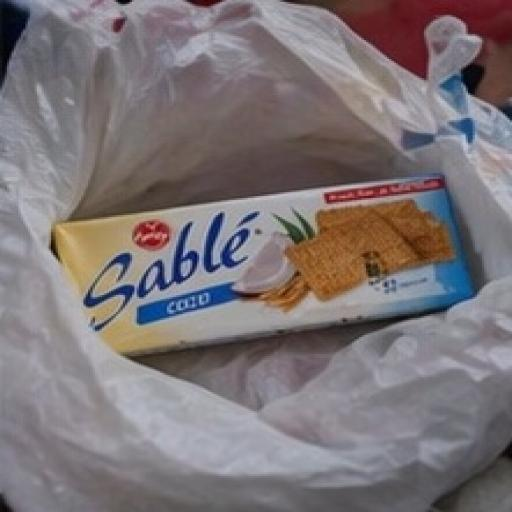sabl: (8, 125, 492, 386)
